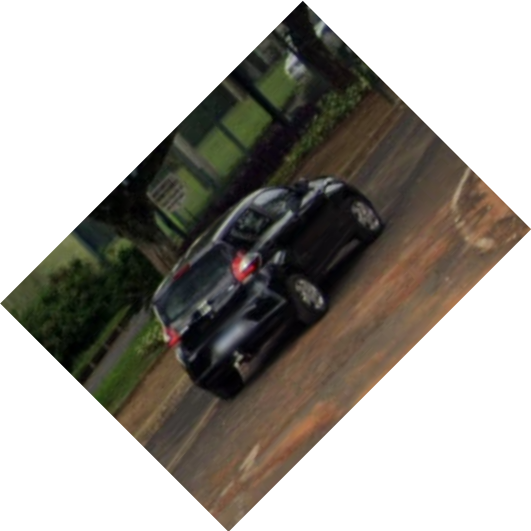car: (138, 173, 388, 405)
